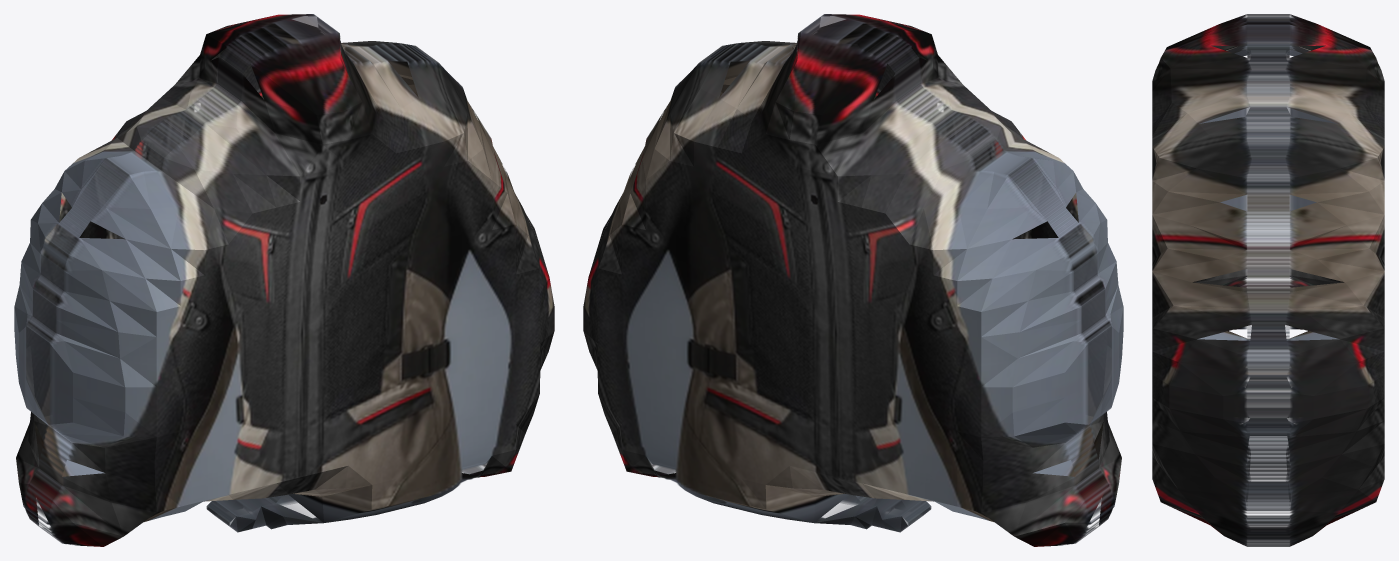
Rendered from sidi-horizon-touring-jacket-024.glb.
3 renders of one model, left to right at view 1: azimuth 30°, elevation 25°; view 2: azimuth 150°, elevation 25°; view 3: azimuth 270°, elevation 25°, orthographic. The views are drawn at different scales.
Parts seen in each view (by area): view 1: world; view 2: world; view 3: world.
Part boxes in pixels (box(x1,y1,x2,y2)): world: box(14, 14, 554, 546); world: box(583, 14, 1123, 546); world: box(1152, 14, 1384, 546).
Bounding box in the file's own units: 1 × 0.9325 × 0.44.
Materials: 1 (1 with a texture image).
